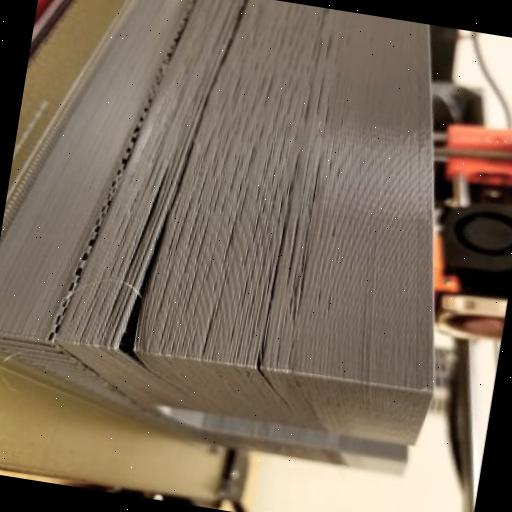cracks: (90, 143, 234, 403), (231, 213, 332, 414)
